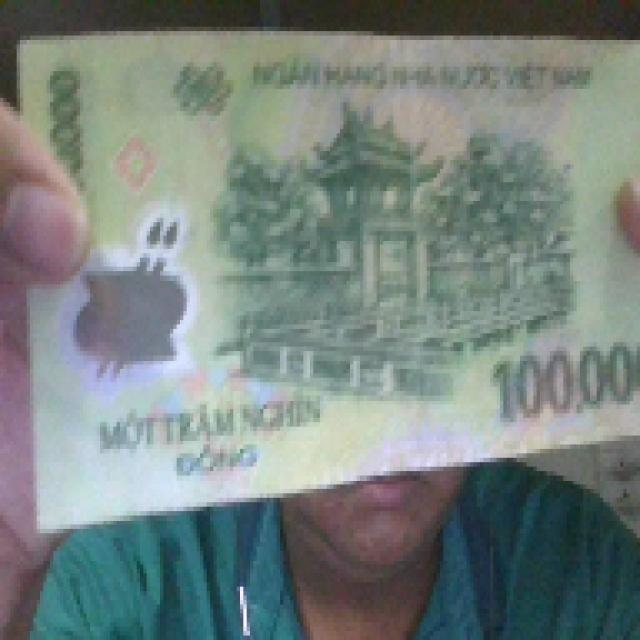100 000 VND: (13, 21, 637, 532)
